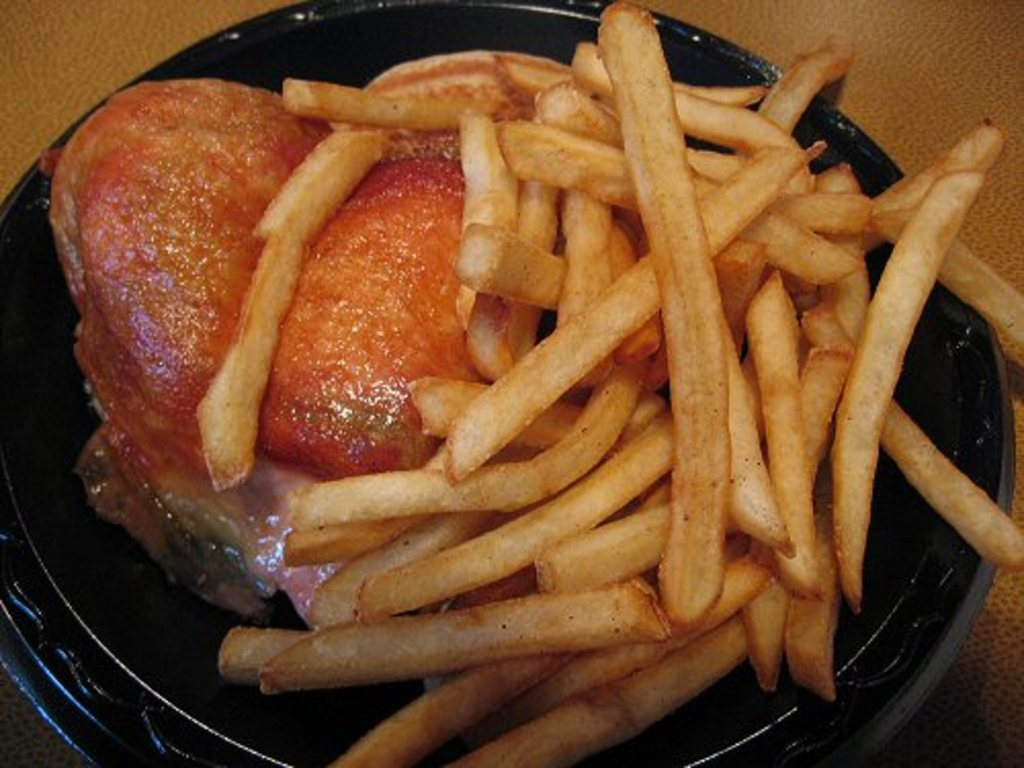French fries: (129, 0, 958, 741)
